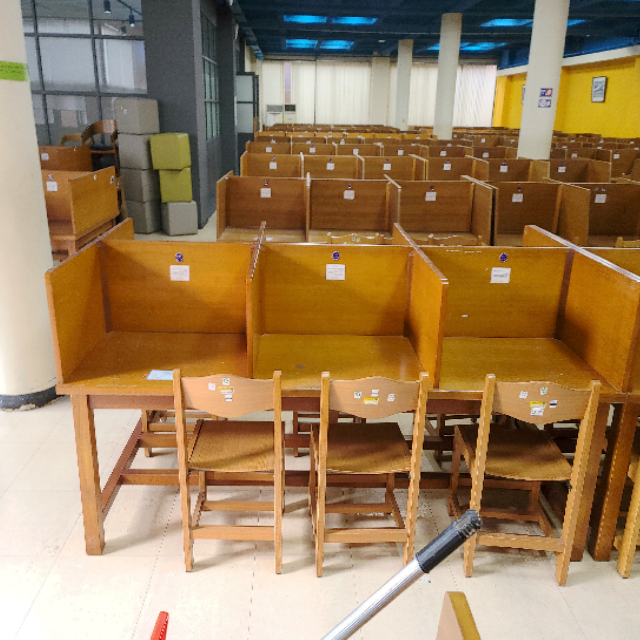empty: (56, 235, 248, 463), (251, 239, 440, 466), (451, 240, 627, 477)
